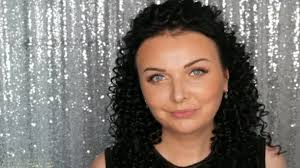white_female: (147, 16, 228, 127)
